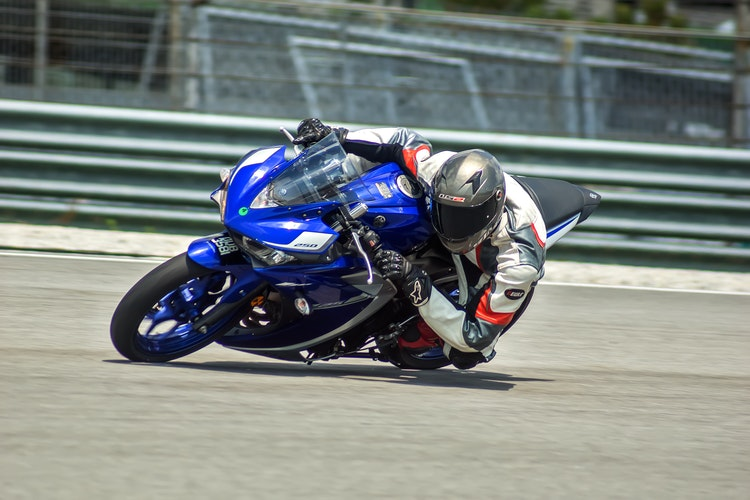helmet: (421, 152, 527, 253)
